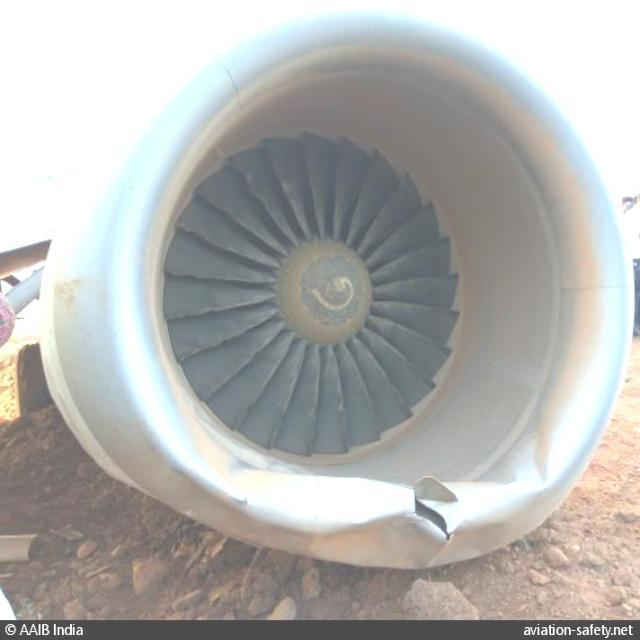crack: (411, 486, 452, 548)
dent: (234, 464, 405, 536), (511, 431, 557, 492)
